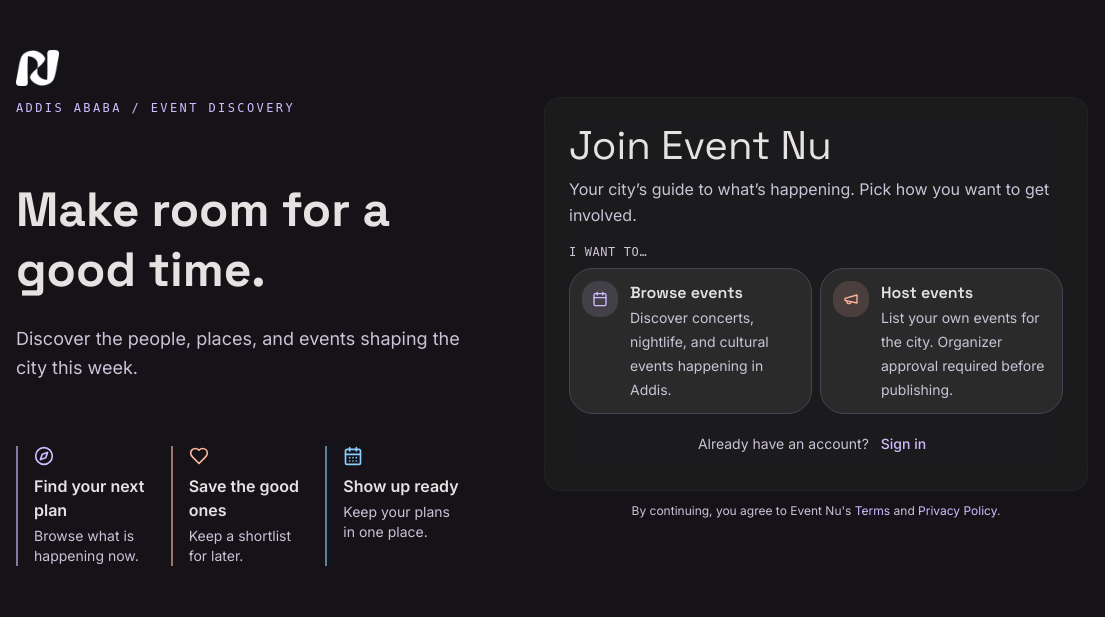
Test: AuthPage — Functional Tests › view transitions › navigates to organizer signup when "Host events" is clicked
Click the text "Host events". click: (927, 292)
box: left=881, top=282, right=973, bottom=303
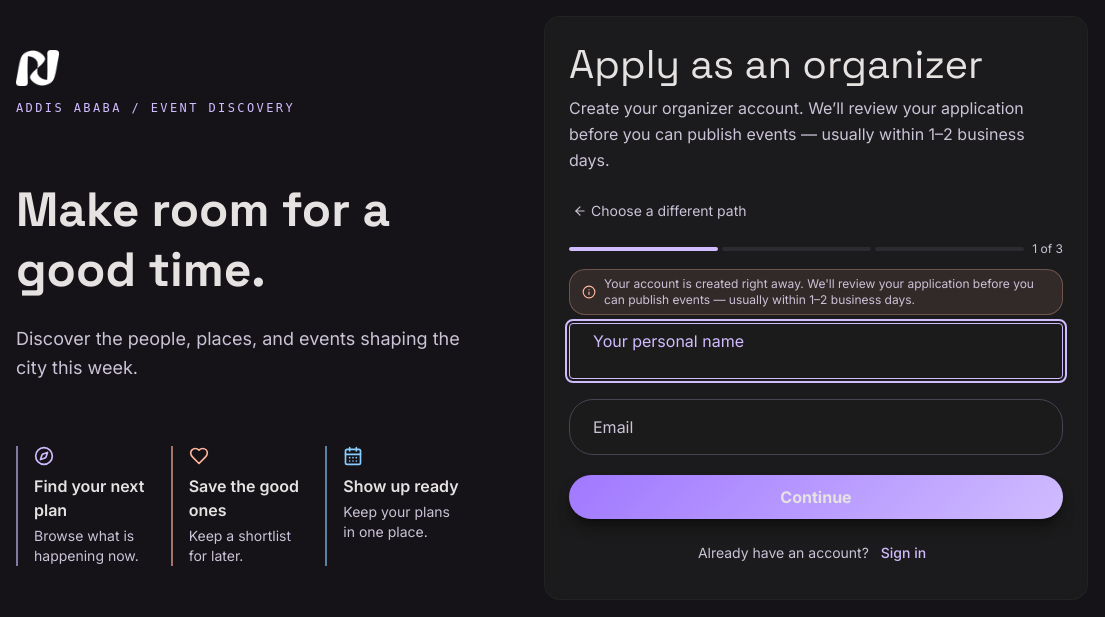
Result: the heading "Apply as an organizer" is shown at left=569, top=39, right=983, bottom=90
Result: the text "Your account is created right away" is shown at left=604, top=276, right=1034, bottom=307
